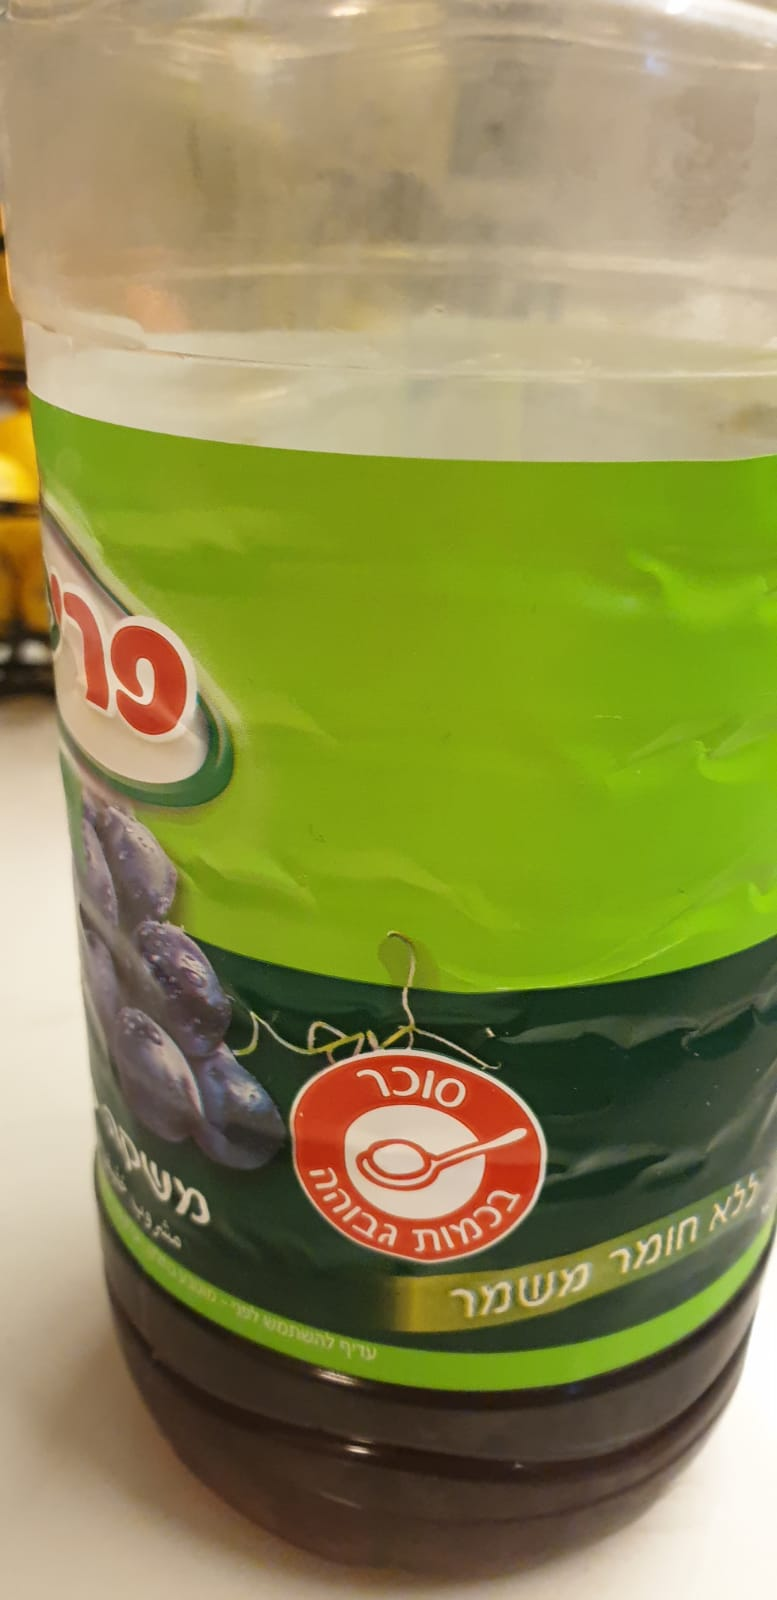sugar: (289, 1050, 549, 1266)
